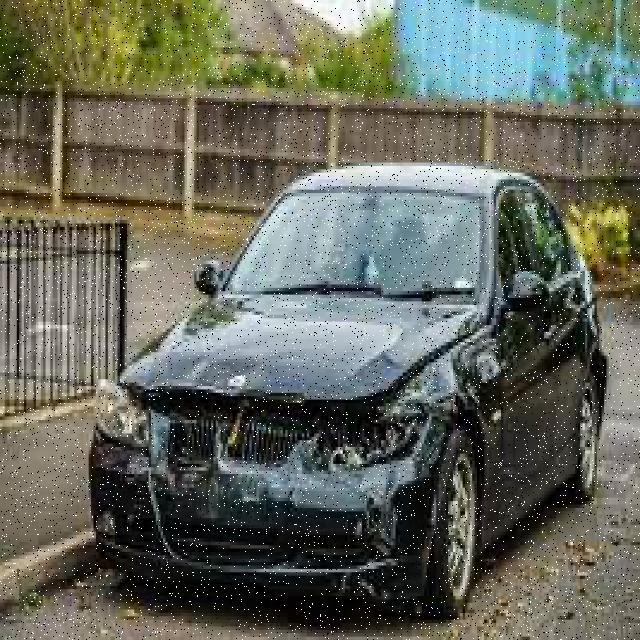headlight: (120, 292, 477, 409)
hood: (87, 437, 432, 583)
